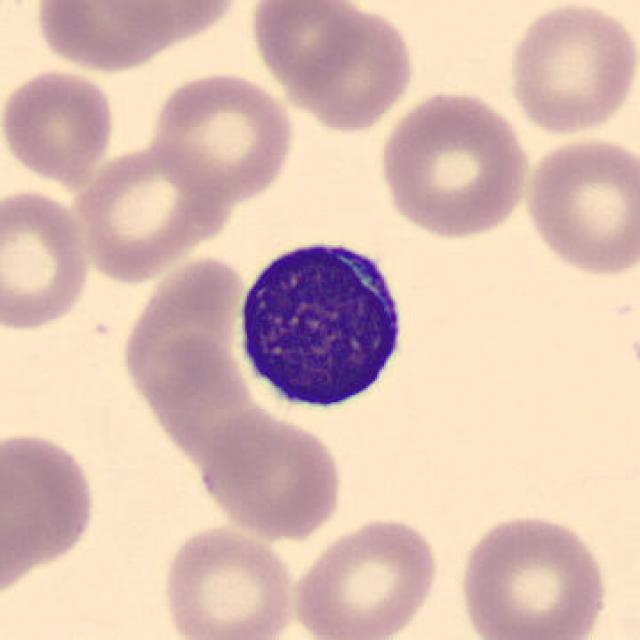Lymphocyte: (228, 224, 418, 423)
RBC: (375, 87, 533, 244), (71, 143, 237, 284), (454, 511, 612, 640), (194, 411, 347, 543), (146, 71, 295, 203), (288, 515, 444, 640), (501, 2, 640, 138), (519, 133, 638, 281), (28, 0, 249, 78), (157, 522, 301, 640), (286, 4, 414, 134), (0, 423, 98, 585), (0, 67, 117, 188), (0, 187, 94, 333), (68, 0, 244, 46)
